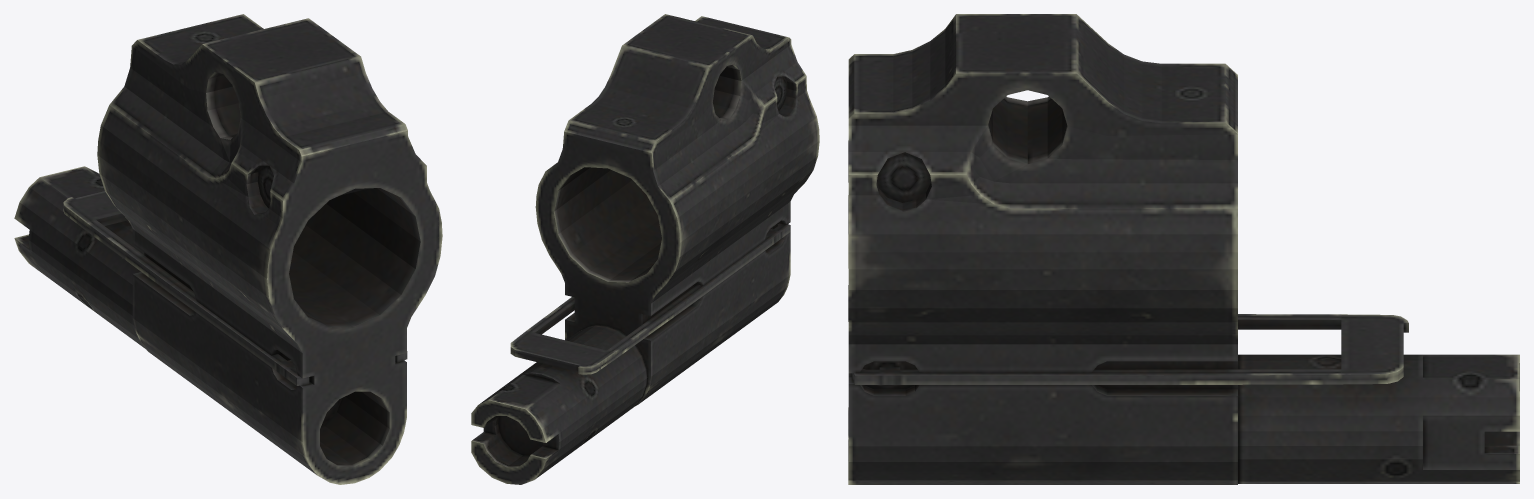
3 views of the same model, side by side, from view 1: azimuth 30°, elevation 25°; view 2: azimuth 150°, elevation 25°; view 3: azimuth 270°, elevation 25° (orthographic). The views are drawn at different scales.
Visible parts, largest first — view 1: TW_5bb20dcad4351e3bac1212da_PZ_Import; view 2: TW_5bb20dcad4351e3bac1212da_PZ_Import; view 3: TW_5bb20dcad4351e3bac1212da_PZ_Import.
Part boxes in pixels (x1,y1,x2,y2): TW_5bb20dcad4351e3bac1212da_PZ_Import: (14,14,442,484); TW_5bb20dcad4351e3bac1212da_PZ_Import: (471,14,819,484); TW_5bb20dcad4351e3bac1212da_PZ_Import: (848,14,1519,484).
Bounding box in the file's own units: 0.0131 × 0.0378 × 0.027.
1 material, 1 textured.
